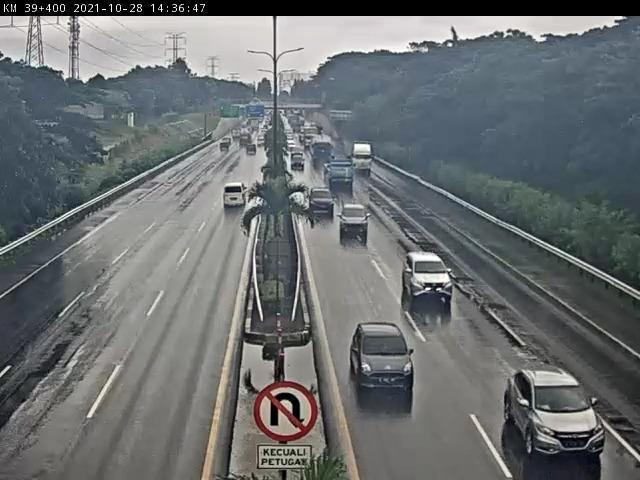car: (513, 367, 606, 456), (352, 323, 431, 408), (407, 247, 451, 312), (224, 184, 250, 210), (307, 189, 339, 210), (349, 206, 366, 237), (290, 153, 308, 174)
truck: (351, 145, 380, 178), (327, 163, 357, 188)
